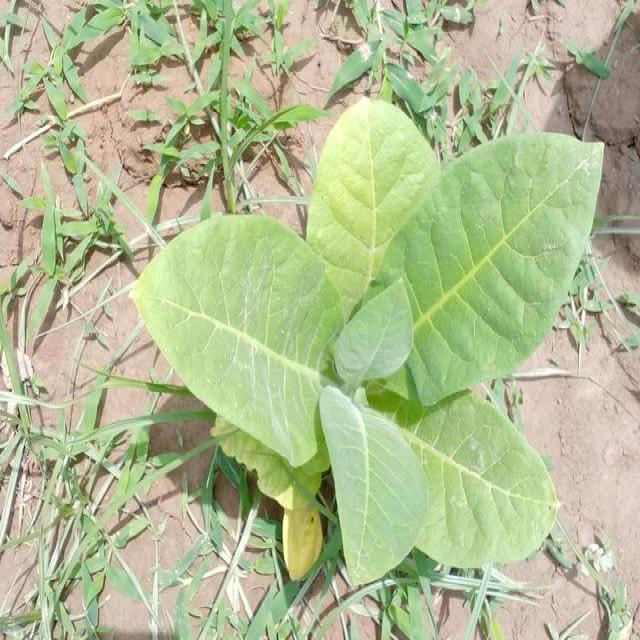crop: (132, 93, 604, 590)
